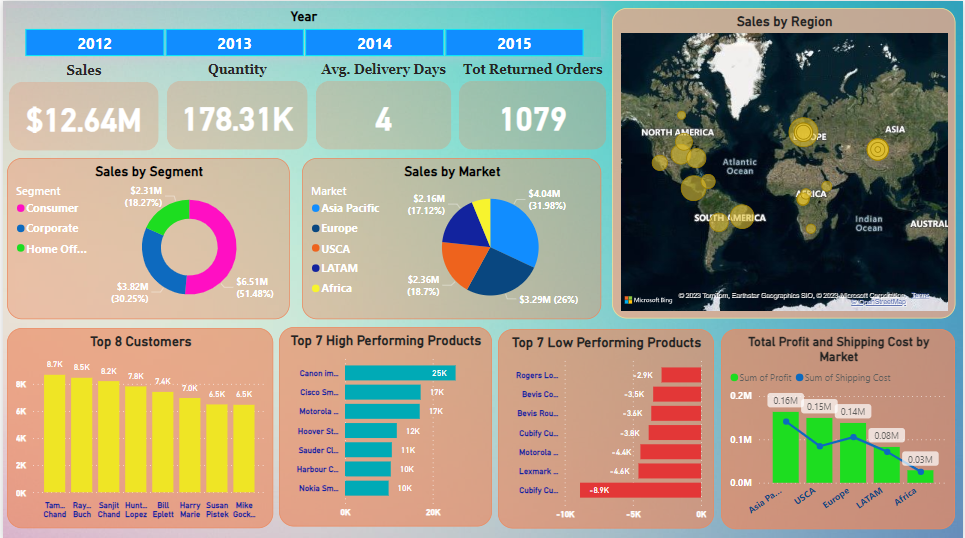

The page's visual inventory and layout, read from the dashboard file:
{"tool":"powerbi","page":{"name":"Retail Sales Dashboard","canvas":[1280,720],"ordinal":0},"visuals":[{"type":"cardVisual","title":"Sales","fields":{"Data":["Orders.Sales"]},"box":[2.8,82.6,210.6,122.5],"z":0},{"type":"cardVisual","title":"Quantity","fields":{"Data":["Orders.Quantity"]},"box":[213.3,81.2,198.2,122.5],"z":1000},{"type":"cardVisual","title":"Avg. Delivery Days","fields":{"Data":["Orders.Delivery Days"]},"box":[411.5,81.2,191.3,122.5],"z":2000},{"type":"slicer","title":"Year","fields":{"Values":["Orders.Year"]},"box":[4.1,9.6,794.2,64.7],"z":3000},{"type":"cardVisual","title":"Tot Returned Orders","fields":{"Data":["Returns.Return Orders"]},"box":[602.8,81.2,207.8,122.5],"z":4000},{"type":"map","fields":{"Category":["Orders.Region"],"Size":["Orders.Sales"]},"box":[812,9.6,458.3,414.3],"z":5000},{"type":"barChart","title":"Top 7 High Performing Products","fields":{"Category":["Orders.Product Name"],"Y":["Orders.Profit"]},"box":[367.5,434.9,283.5,265.6],"z":6000},{"type":"barChart","title":"Top 7 Low Performing Products","fields":{"Category":["Orders.Product Name"],"Y":["Orders.Profit"]},"box":[660.6,437.7,287.7,265.6],"z":7000},{"type":"donutChart","title":"Sales by Segment","fields":{"Category":["Orders.Segment"],"Y":["Orders.Sales"]},"box":[5.5,209.2,377.1,214.7],"z":8000},{"type":"pieChart","title":"Sales by Market","fields":{"Category":["Orders.Market"],"Y":["Orders.Sales"]},"box":[399.1,209.2,399.1,214.7],"z":9000},{"type":"clusteredColumnChart","title":"Top 8 Customers","fields":{"Category":["Orders.Customer Name"],"Y":["Orders.Profit"]},"box":[5.5,436.3,355.1,267],"z":10000},{"type":"lineClusteredColumnComboChart","title":"Total Profit and Shipping Cost by Market","fields":{"Category":["Orders.Market"],"Y":["Orders.Profit"],"Y2":["Orders.Shipping Cost"]},"box":[957.9,437.7,312.4,267],"z":11000}]}

Visuals, with their boxes in screenshot pixels (x1, y1, x2, y2), scaled from the page's 1280x720 canvas onto the 965x538 screenshot:
"Sales" cardVisual: BBox(2, 62, 161, 153)
"Quantity" cardVisual: BBox(161, 61, 310, 152)
"Avg. Delivery Days" cardVisual: BBox(310, 61, 454, 152)
"Year" slicer: BBox(3, 7, 602, 56)
"Tot Returned Orders" cardVisual: BBox(454, 61, 611, 152)
map - Orders.Region x Orders.Sales: BBox(612, 7, 958, 317)
"Top 7 High Performing Products" barChart: BBox(277, 325, 491, 523)
"Top 7 Low Performing Products" barChart: BBox(498, 327, 715, 526)
"Sales by Segment" donutChart: BBox(4, 156, 288, 317)
"Sales by Market" pieChart: BBox(301, 156, 602, 317)
"Top 8 Customers" clusteredColumnChart: BBox(4, 326, 272, 526)
"Total Profit and Shipping Cost by Market" lineClusteredColumnComboChart: BBox(722, 327, 958, 527)
